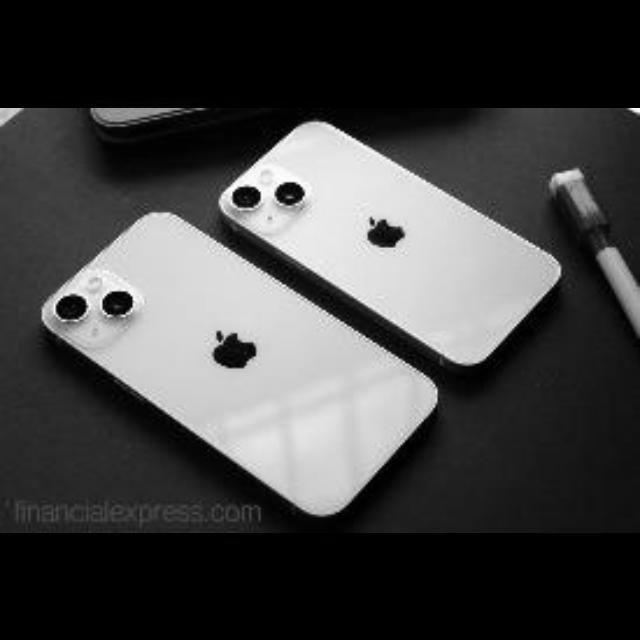fake: (46, 86, 621, 414), (20, 157, 474, 516)
